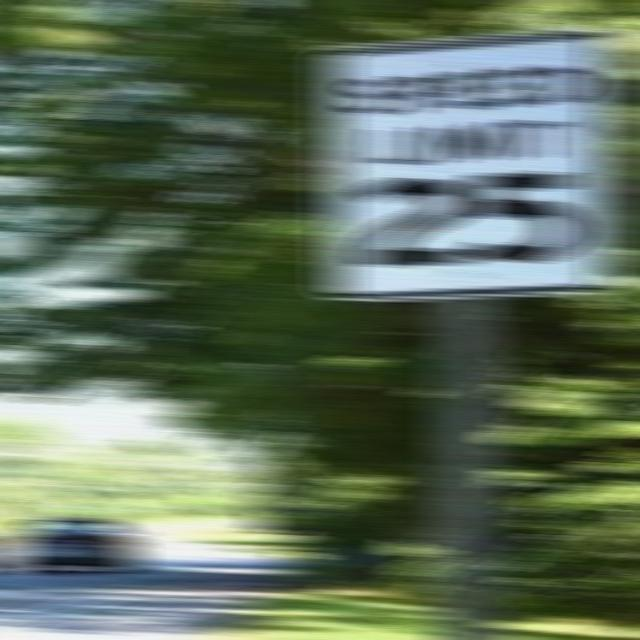speedLimit25: (312, 44, 624, 294)
